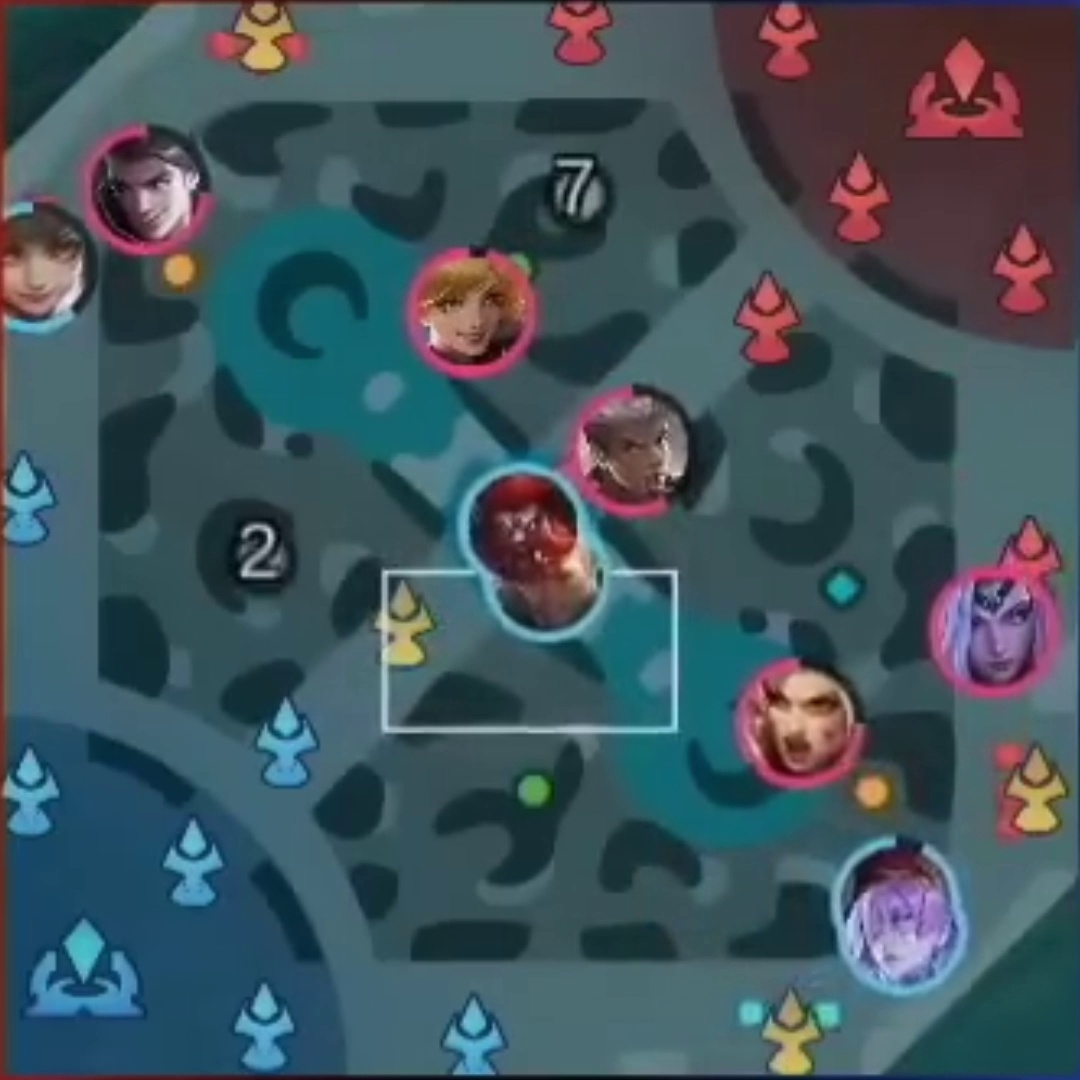Chou: (584, 396, 685, 501)
Claude: (89, 131, 201, 251)
Fanny: (414, 252, 526, 374)
Masha: (744, 666, 858, 773)
Minotaur: (471, 470, 577, 573)
Novaria: (848, 888, 956, 978)
Valentina: (936, 577, 1052, 691)
Wanwan: (1, 209, 89, 329)
